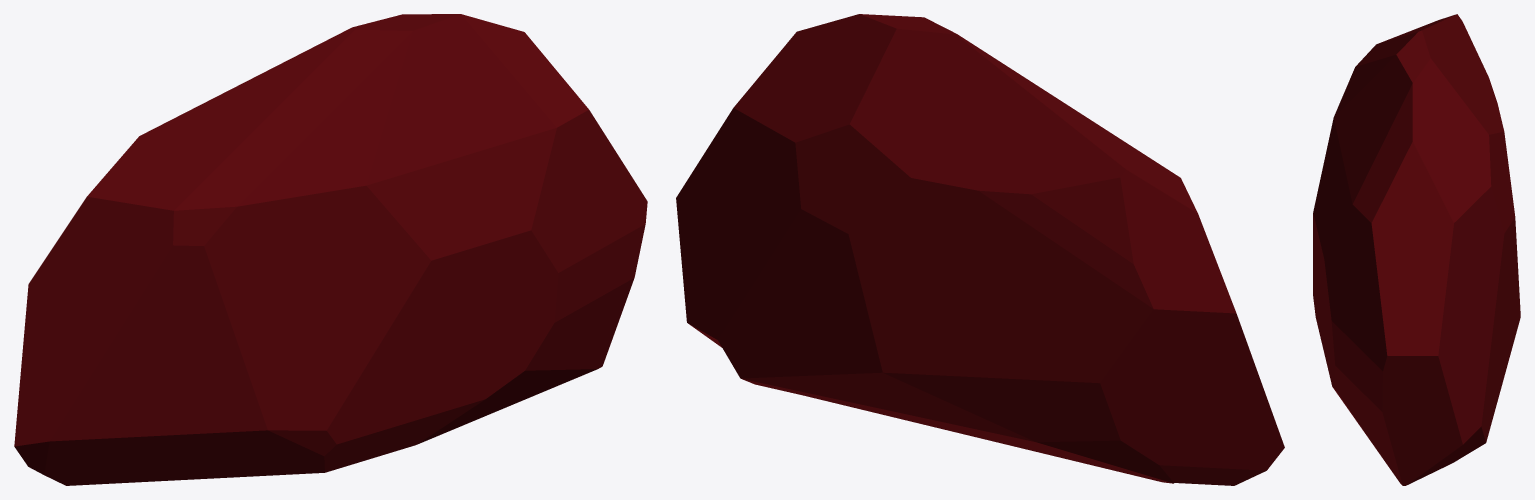
Rendered from wall.fbx.
The picture shows the model from 3 angles, left to right: view 1: azimuth 30°, elevation 25°; view 2: azimuth 150°, elevation 25°; view 3: azimuth 270°, elevation 25°; orthographic projection. The views are drawn at different scales.
Parts seen in each view (by area): view 1: Icosphere; view 2: Icosphere; view 3: Icosphere.
Boxes of the visible parts, bbox=[...] form: Icosphere: bbox=[14, 14, 647, 485]; Icosphere: bbox=[676, 14, 1284, 485]; Icosphere: bbox=[1313, 14, 1520, 485].
Bounding box in the file's own units: 1914 × 1164 × 625.
